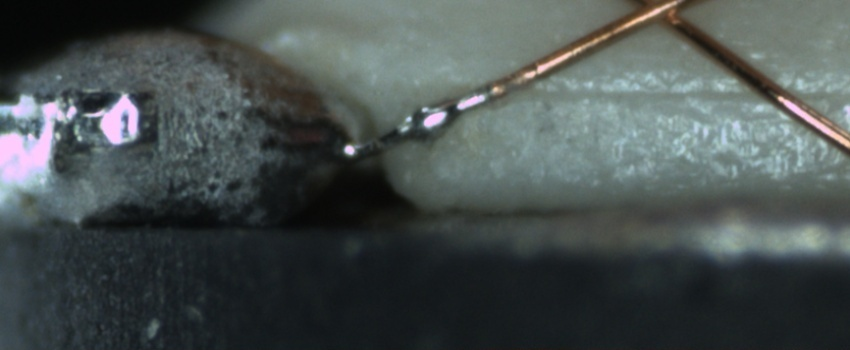CL: (616, 1, 704, 33)
DL: (503, 65, 849, 124)
TB: (398, 93, 459, 140)
TS: (346, 86, 494, 158)
TTCW: (339, 58, 545, 163)
